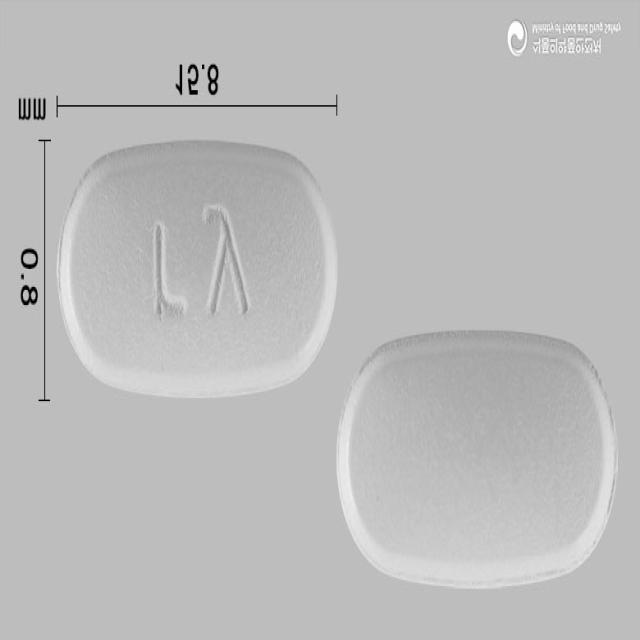Cefaxamin Cap: (58, 140, 337, 401), (338, 329, 618, 588)
